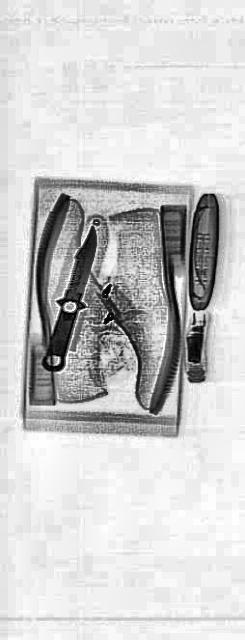Knife: (37, 205, 103, 388)
